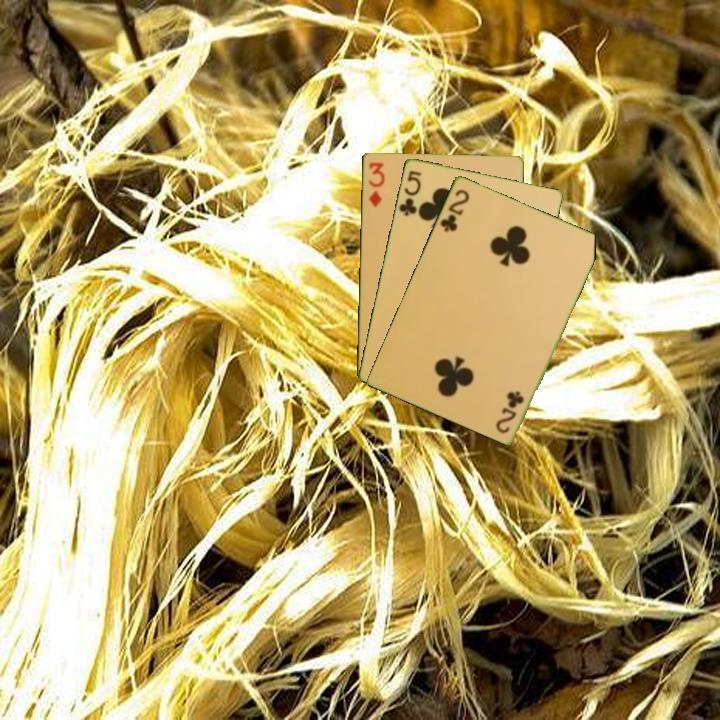2c: (436, 185, 472, 235), (493, 387, 527, 436)
3d: (365, 159, 387, 210)
5c: (395, 167, 424, 219)
